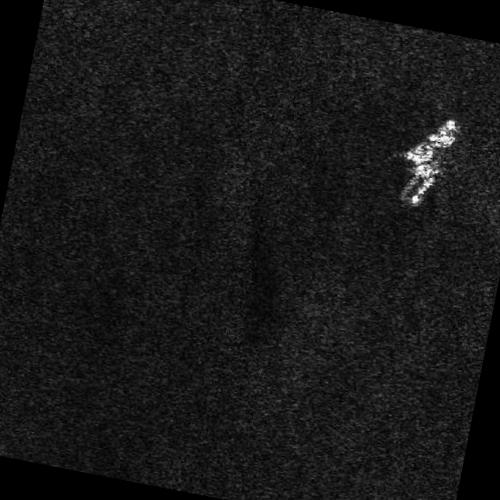ship: (405, 118, 457, 165), (400, 160, 442, 207)
